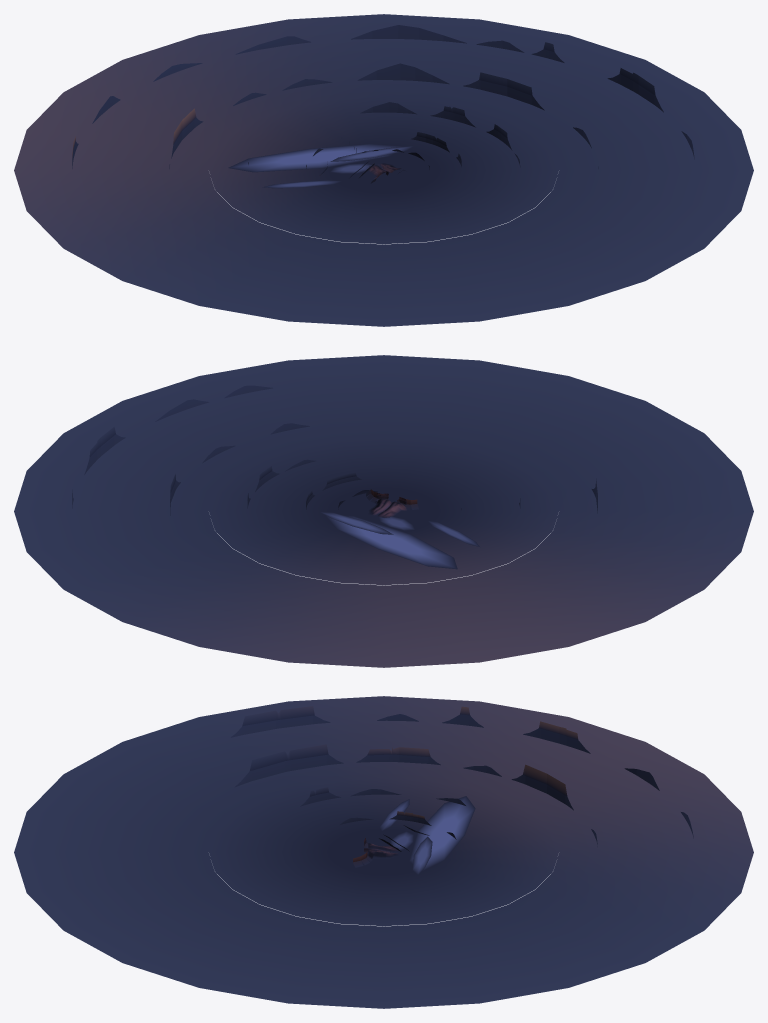
Rendered from env_backdrop_dusk.glb.
3 renders of one model, top to bottom at view 1: azimuth 30°, elevation 25°; view 2: azimuth 150°, elevation 25°; view 3: azimuth 270°, elevation 25°, orthographic.
Visible parts, largest first — view 1: backdrop_dusk; view 2: backdrop_dusk; view 3: backdrop_dusk.
Boxes of the visible parts, x1,y1,x2,y2 form: backdrop_dusk: (14,14,753,326); backdrop_dusk: (14,355,753,667); backdrop_dusk: (14,696,753,1008).
Bounding box in the file's own units: 1900 × 60.95 × 1900.
